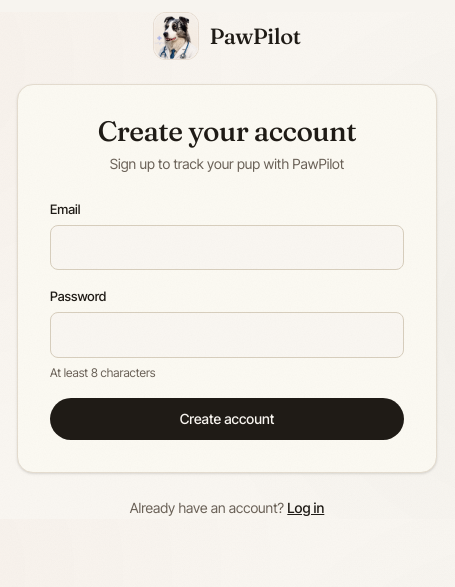
Test: SignupPage › falls back to generic error on unknown backend failures
In the field labelled "Email": (227,248) x1=50 y1=225 x2=404 y2=270, type "a@b.co"
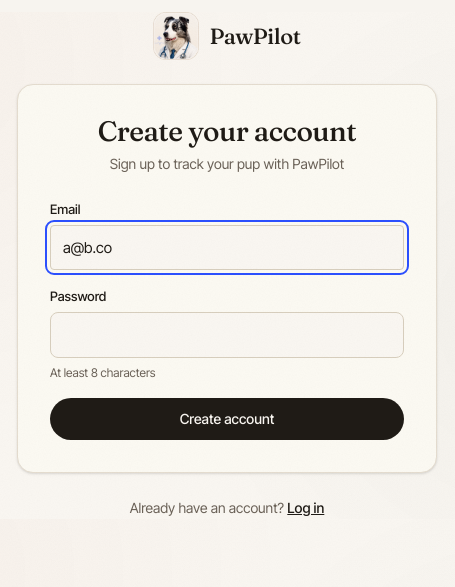
In the password field labelled "Password": (227,335) x1=50 y1=312 x2=404 y2=358, type "12345678"
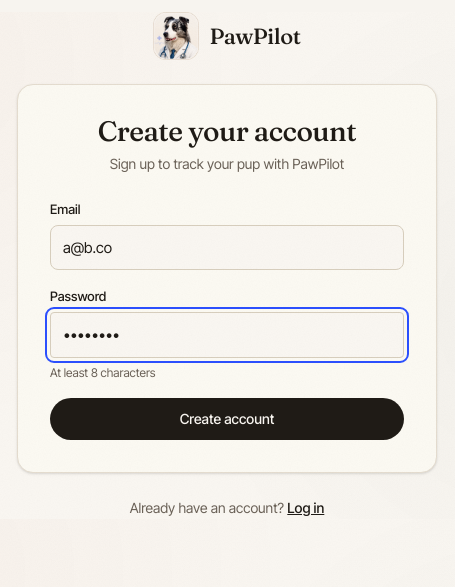
Click the button "Create account": (227,419) x1=50 y1=398 x2=404 y2=440
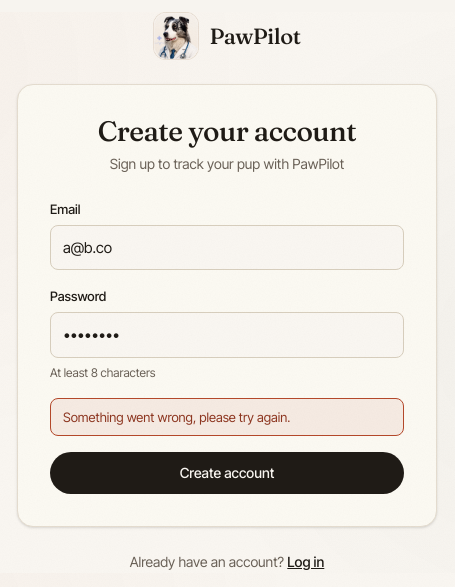
Expected: the text "Something went wrong, please try again." is shown, x1=50 y1=398 x2=404 y2=436
